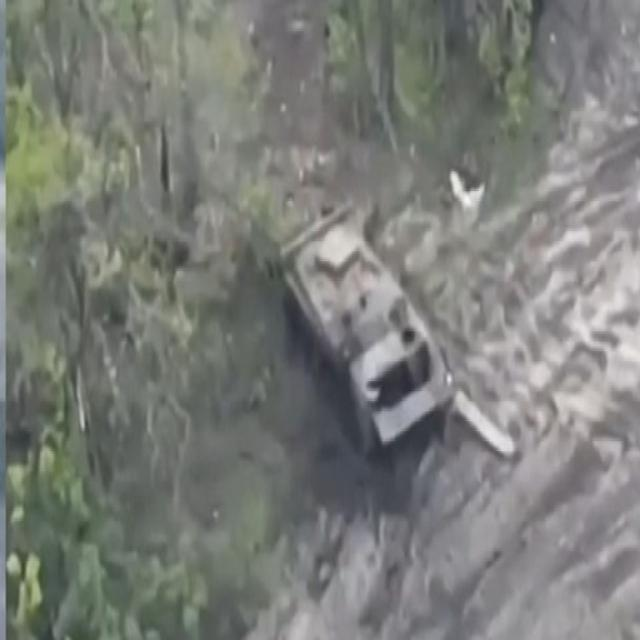APC-IFV: (269, 189, 451, 458)
